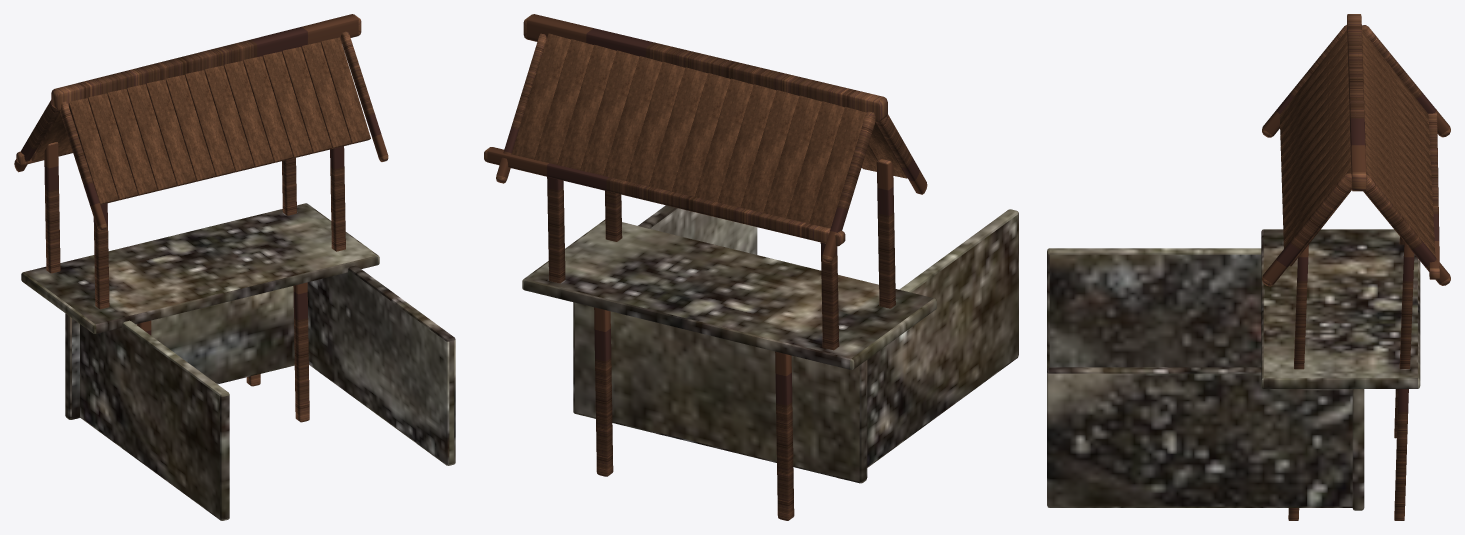
File: Shop.fbx
The picture shows the model from 3 angles, left to right: view 1: azimuth 30°, elevation 25°; view 2: azimuth 150°, elevation 25°; view 3: azimuth 270°, elevation 25°; orthographic projection. The views are drawn at different scales.
Parts seen in each view (by area): view 1: Plane.068, Plane.077; view 2: Plane.068, Plane.077; view 3: Plane.068, Plane.077.
Part boxes in pixels (box(x1,y1,x2,y2)): Plane.068: box(21, 203, 455, 520); Plane.077: box(14, 14, 388, 422); Plane.068: box(522, 205, 1018, 483); Plane.077: box(484, 14, 927, 520); Plane.068: box(1047, 229, 1420, 510); Plane.077: box(1262, 14, 1450, 520).
Bounding box in the file's own units: 247 × 276 × 258.
